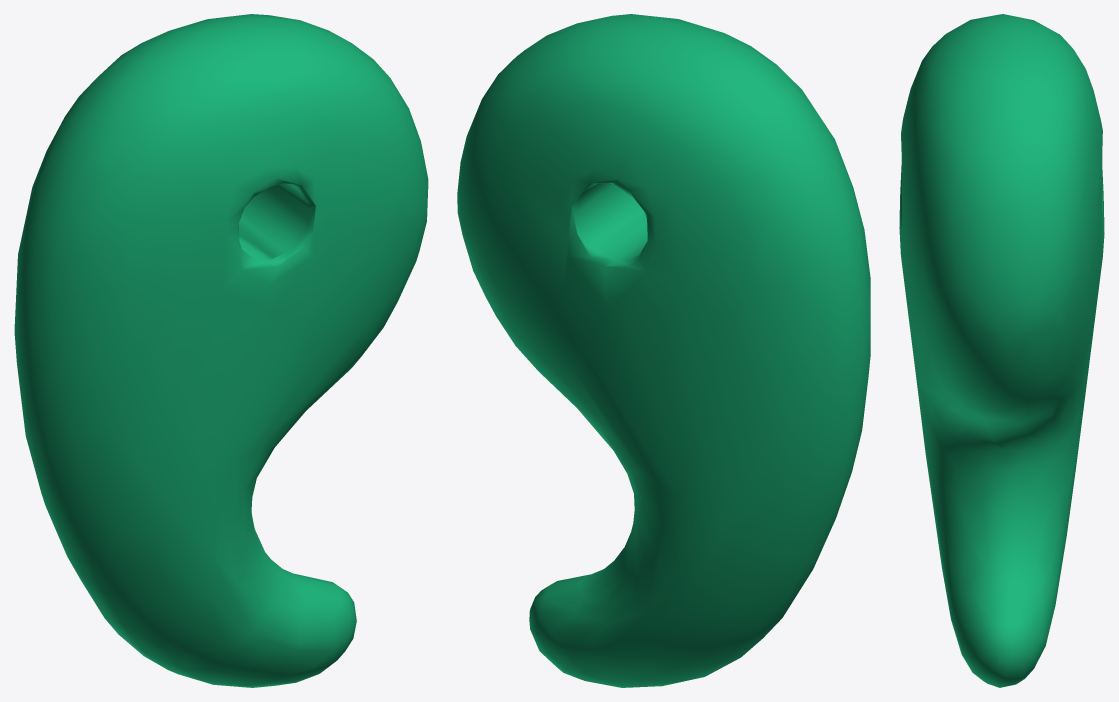
The model's file is magatama.fbx.
3 renders of one model, left to right at view 1: azimuth 30°, elevation 25°; view 2: azimuth 150°, elevation 25°; view 3: azimuth 270°, elevation 25°, orthographic. The views are drawn at different scales.
Visible parts, largest first — view 1: magatama; view 2: magatama; view 3: magatama.
Part boxes in pixels (x1=…): magatama: x1=14, y1=14, x2=428, y2=687; magatama: x1=457, y1=14, x2=870, y2=687; magatama: x1=899, y1=14, x2=1104, y2=687.
Size of the model in its own units: 192 by 308 by 93.29.
